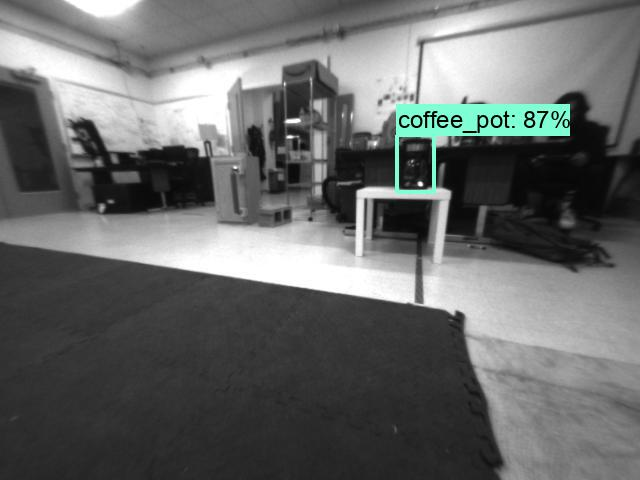coffee_pot: (398, 135, 435, 191)
